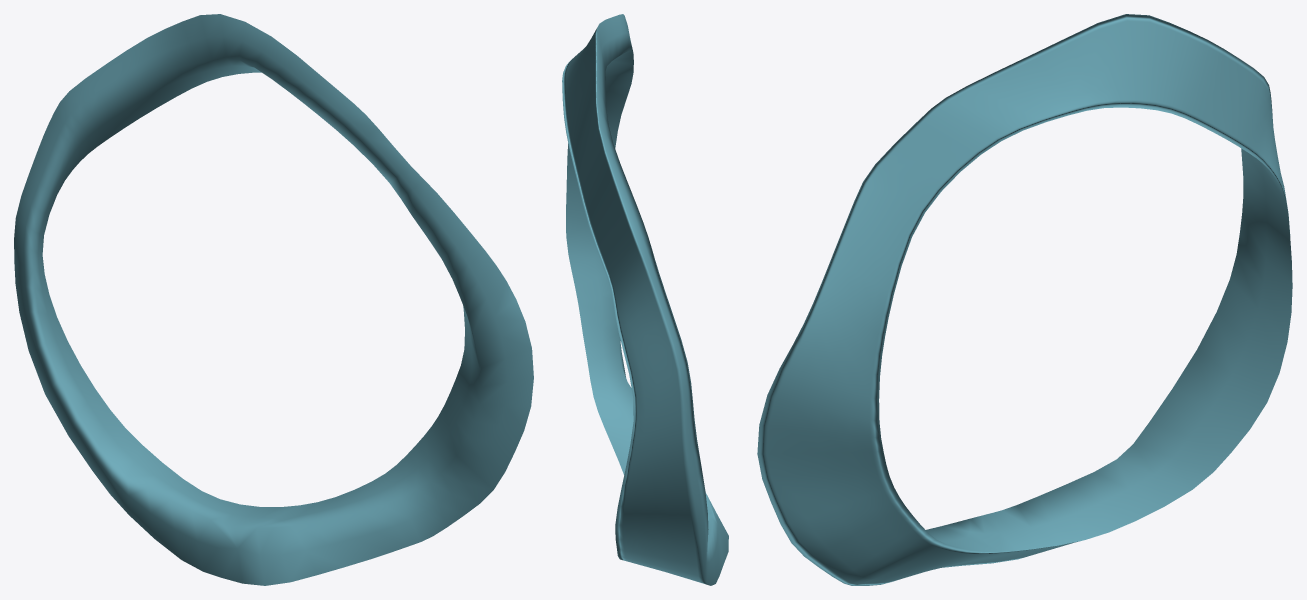
The picture shows the model from 3 angles, left to right: view 1: azimuth 30°, elevation 25°; view 2: azimuth 150°, elevation 25°; view 3: azimuth 270°, elevation 25°; orthographic projection. The views are drawn at different scales.
Visible parts, largest first — view 1: 左侧髋臼唇; view 2: 左侧髋臼唇; view 3: 左侧髋臼唇.
Boxes of the visible parts, x1,y1,x2,y2 form: 左侧髋臼唇: (14,14,533,585); 左侧髋臼唇: (562,14,728,585); 左侧髋臼唇: (757,14,1292,585).
Size of the model in its own units: 0.052 by 0.0844 by 0.0705.
